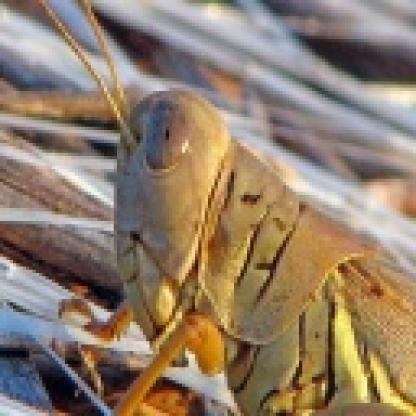grasshopper: (34, 0, 416, 414)
